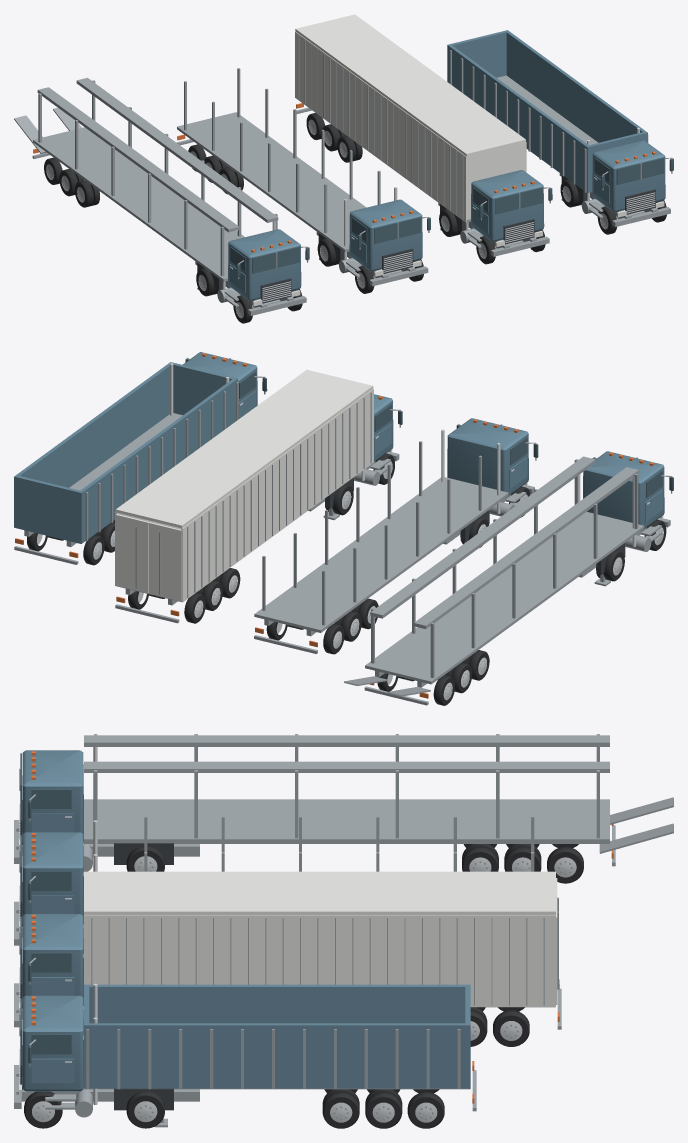
The model's file is long-haul-trucking-and-truck-stop-trailer-connector-ca-40f31cdd__14032.glb.
3 views of the same model, one above another, from view 1: azimuth 30°, elevation 25°; view 2: azimuth 150°, elevation 25°; view 3: azimuth 270°, elevation 25° (orthographic). The views are drawn at different scales.
Parts seen in each view (by area): view 1: 005-container-chassis-trailer/20, 001-car-transporter-trailer/18, 007-tipper-trailer/20, 003-log-trailer/18, 005-container-chassis-trailer/18, 000-cabover-day-cab/13, 004-cabover-day-cab/13, 002-cabover-day-cab/13, 006-cabover-day-cab/13, 007-tipper-trailer/18, 006-cabover-day-cab/16, 000-cabover-day-cab/16 (+12 smaller); view 2: 005-container-chassis-trailer/20, 001-car-transporter-trailer/18, 007-tipper-trailer/20, 003-log-trailer/18, 005-container-chassis-trailer/18, 002-cabover-day-cab/13, 007-tipper-trailer/18, 000-cabover-day-cab/13, 005-container-chassis-trailer/rear-door-1, 005-container-chassis-trailer/rear-door--1, 006-cabover-day-cab/13, 000-cabover-day-cab/12 (+3 smaller); view 3: 005-container-chassis-trailer/20, 007-tipper-trailer/20, 001-car-transporter-trailer/18, 006-cabover-day-cab/13, 007-tipper-trailer/18, 005-container-chassis-trailer/18, 000-cabover-day-cab/13, 002-cabover-day-cab/13, 004-cabover-day-cab/13, 006-cabover-day-cab/12, 003-log-trailer/18, 000-cabover-day-cab/12 (+19 smaller).
Boxes of the visible parts, bbox=[...] form: 005-container-chassis-trailer/20: bbox=[295, 14, 526, 222]; 001-car-transporter-trailer/18: bbox=[14, 77, 278, 289]; 007-tipper-trailer/20: bbox=[447, 30, 647, 193]; 003-log-trailer/18: bbox=[176, 68, 380, 260]; 005-container-chassis-trailer/18: bbox=[296, 36, 470, 230]; 000-cabover-day-cab/13: bbox=[228, 229, 301, 300]; 004-cabover-day-cab/13: bbox=[471, 170, 544, 241]; 002-cabover-day-cab/13: bbox=[349, 199, 422, 271]; 006-cabover-day-cab/13: bbox=[592, 140, 665, 212]; 007-tipper-trailer/18: bbox=[449, 50, 648, 201]; 006-cabover-day-cab/16: bbox=[594, 157, 673, 187]; 000-cabover-day-cab/16: bbox=[230, 246, 309, 276]; 005-container-chassis-trailer/20: bbox=[115, 369, 373, 602]; 001-car-transporter-trailer/18: bbox=[344, 456, 644, 705]; 007-tipper-trailer/20: bbox=[14, 362, 237, 543]; 003-log-trailer/18: bbox=[254, 441, 508, 653]; 005-container-chassis-trailer/18: bbox=[115, 392, 371, 623]; 002-cabover-day-cab/13: bbox=[447, 418, 528, 497]; 007-tipper-trailer/18: bbox=[14, 382, 238, 564]; 000-cabover-day-cab/13: bbox=[583, 451, 664, 530]; 005-container-chassis-trailer/rear-door-1: bbox=[115, 514, 148, 593]; 005-container-chassis-trailer/rear-door--1: bbox=[148, 522, 181, 601]; 006-cabover-day-cab/13: bbox=[182, 352, 257, 406]; 000-cabover-day-cab/12: bbox=[579, 457, 672, 577]; 005-container-chassis-trailer/20: bbox=[84, 871, 555, 1006]; 007-tipper-trailer/20: bbox=[84, 984, 470, 1088]; 001-car-transporter-trailer/18: bbox=[84, 734, 673, 866]; 006-cabover-day-cab/13: bbox=[22, 995, 83, 1091]; 007-tipper-trailer/18: bbox=[84, 1029, 476, 1127]; 005-container-chassis-trailer/18: bbox=[91, 897, 561, 1029]; 000-cabover-day-cab/13: bbox=[22, 750, 83, 842]; 002-cabover-day-cab/13: bbox=[22, 832, 83, 924]; 004-cabover-day-cab/13: bbox=[22, 914, 83, 1006]; 006-cabover-day-cab/12: bbox=[14, 1013, 199, 1117]; 003-log-trailer/18: bbox=[144, 816, 534, 871]; 000-cabover-day-cab/12: bbox=[14, 768, 199, 871].
Bounding box in the file's own units: 18 × 3.9 × 17.07.
